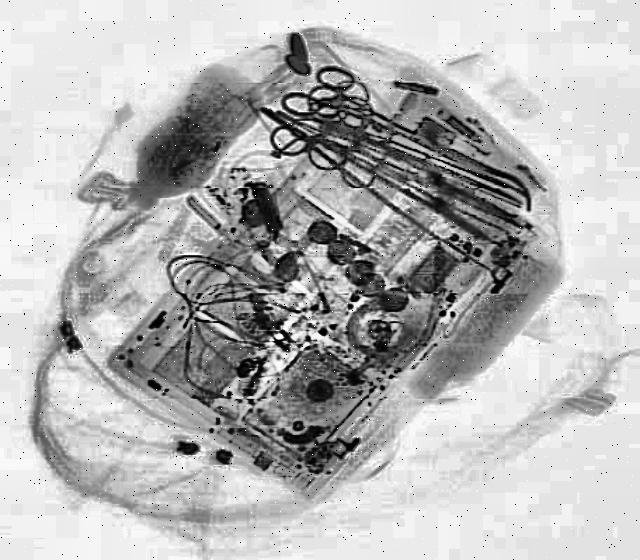Scissors: (278, 58, 436, 170)
